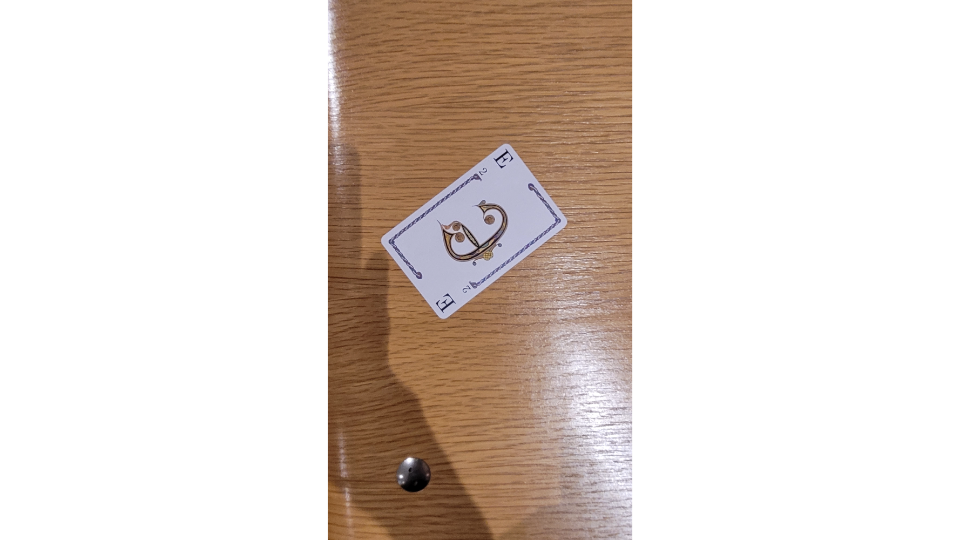E: (377, 141, 573, 321)
